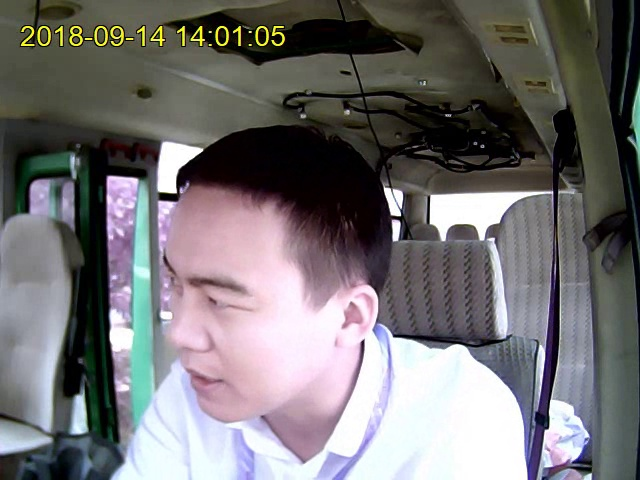closed_mouth: (183, 362, 225, 393)
